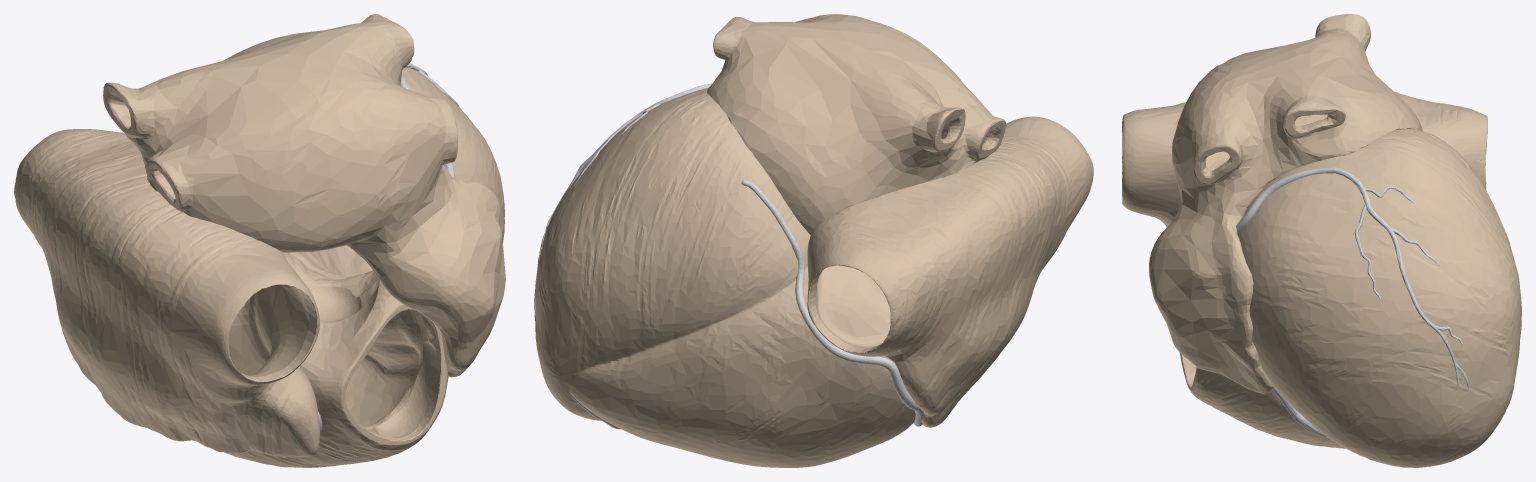
Rendered from heart.glb.
3 views of the same model, side by side, from view 1: azimuth 30°, elevation 25°; view 2: azimuth 150°, elevation 25°; view 3: azimuth 270°, elevation 25° (orthographic). The views are drawn at different scales.
Visible parts, largest first — view 1: Heart; view 2: Heart, RCA, LCX; view 3: Heart, LCX, LAD.
Boxes of the visible parts, <box> form: Heart: <box>14,14,505,467</box>; Heart: <box>535,14,1093,467</box>; RCA: <box>741,180,923,426</box>; LCX: <box>534,83,711,320</box>; Heart: <box>1122,14,1521,467</box>; LCX: <box>1236,167,1469,398</box>; LAD: <box>1272,387,1327,437</box>.
Size of the model in its own units: 2.5 by 2.3 by 2.28.
